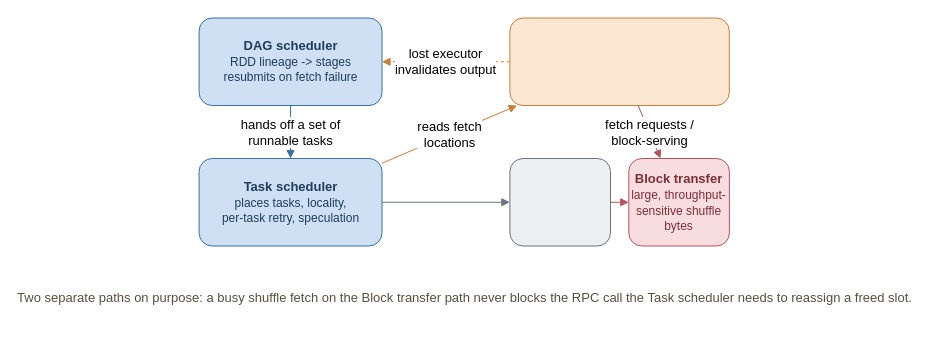
Image size: 929x353. Some labels were removed from this diagram. The box of each missing label's shape, as (x1, y1, x2, y2) in pixels:
Map output tracker Master (driver, authoritative) Worker (executor, cached): (509, 17, 729, 106)
RPC (Netty) small, latency-sensitive control messages: (509, 158, 610, 246)
